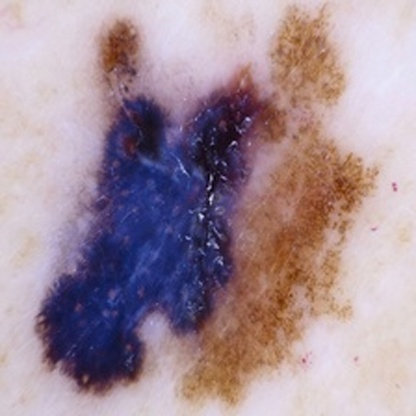malignant: (66, 92, 338, 369)
